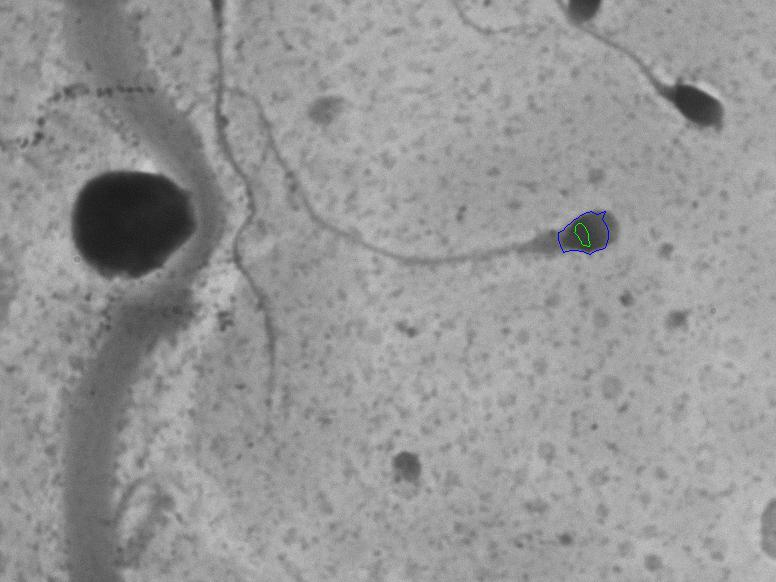Abnormal: (529, 15, 751, 151)
